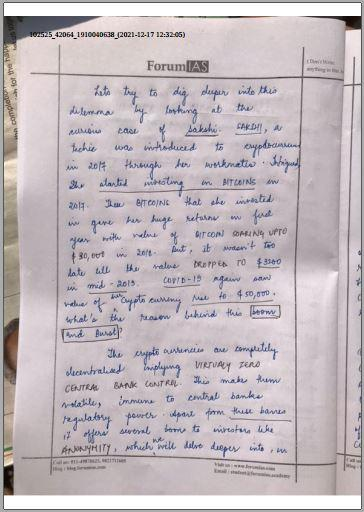text: (65, 153, 301, 181), (61, 404, 287, 433), (67, 206, 274, 236), (70, 238, 277, 266), (63, 288, 276, 315), (68, 225, 288, 251), (68, 120, 284, 145), (60, 435, 290, 458), (68, 174, 280, 198), (71, 137, 301, 159), (67, 256, 282, 279), (65, 272, 272, 295), (62, 422, 275, 444), (93, 83, 279, 108), (63, 373, 282, 394), (67, 192, 275, 214), (64, 304, 281, 325), (60, 389, 264, 411), (69, 102, 254, 126), (106, 340, 280, 365), (65, 359, 262, 380), (29, 29, 186, 41), (146, 57, 209, 74), (212, 468, 292, 481), (63, 325, 124, 341), (213, 460, 276, 472), (52, 457, 126, 466), (53, 464, 106, 472), (306, 66, 346, 75), (305, 58, 336, 66)
